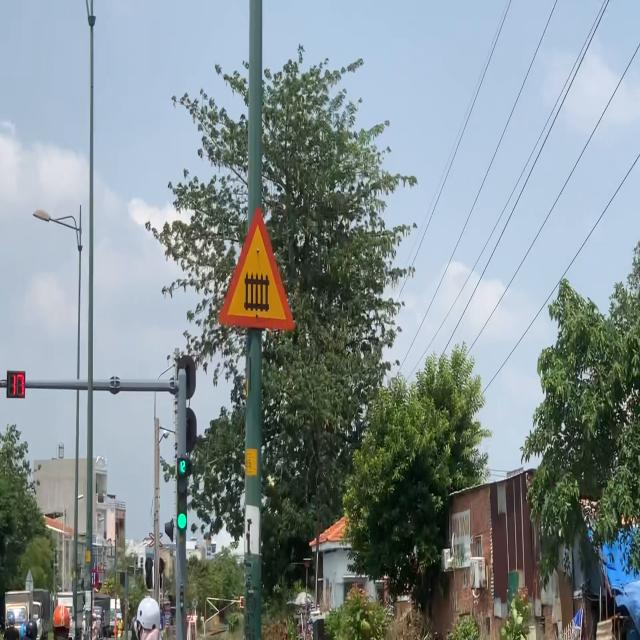Nguy hiem: (213, 196, 299, 339)
